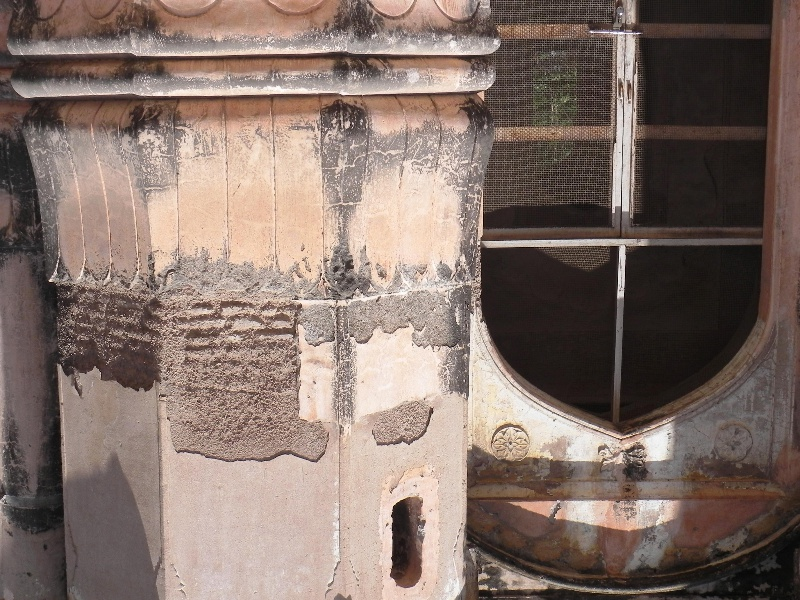Exposed Bricks: (53, 279, 300, 354)
Spalling: (56, 361, 339, 476), (367, 401, 442, 452)
